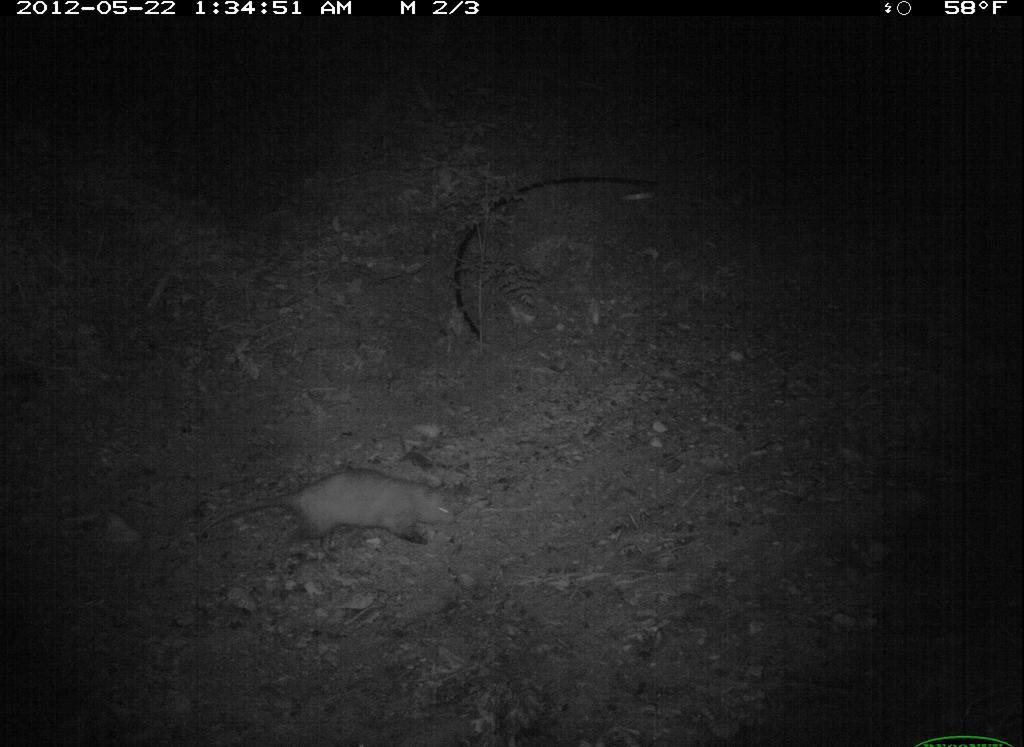opossum: (198, 463, 466, 555)
